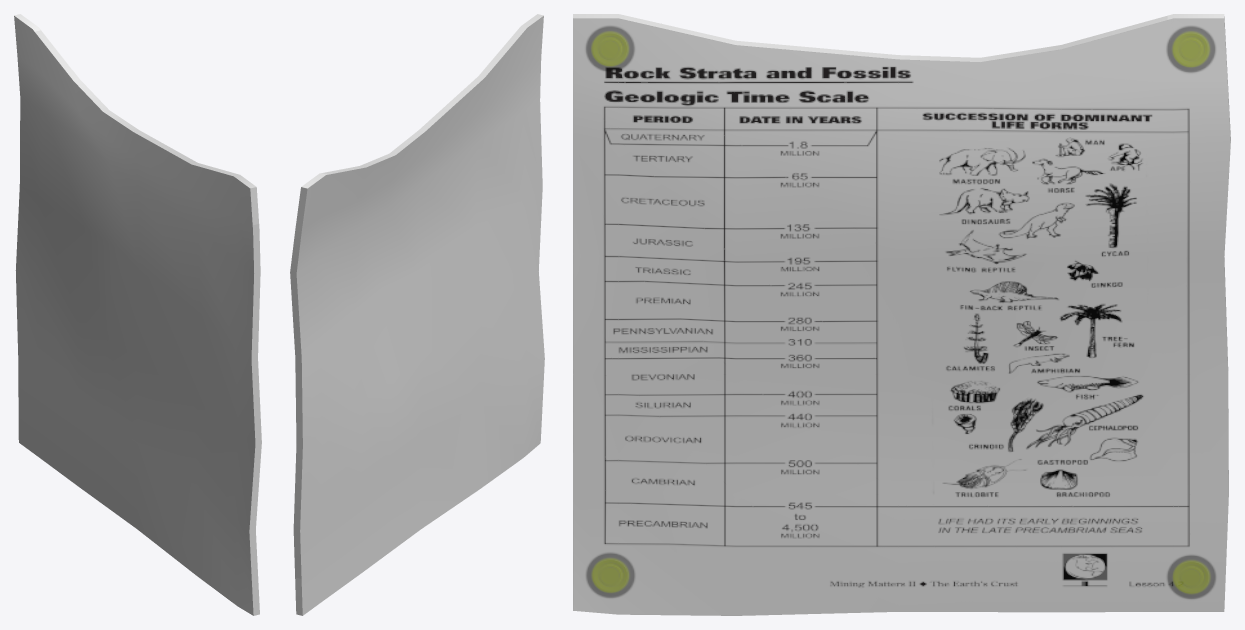
File: Poster_textured.fbx
The picture shows the model from 3 angles, left to right: view 1: azimuth 30°, elevation 25°; view 2: azimuth 150°, elevation 25°; view 3: azimuth 270°, elevation 25°; orthographic projection. The views are drawn at different scales.
Visible parts, largest first — view 1: Cube.001; view 2: Cube.001; view 3: Cube.001.
Boxes of the visible parts, <box> form: Cube.001: <box>14,14,261,615</box>; Cube.001: <box>290,14,544,615</box>; Cube.001: <box>573,14,1230,615</box>.
Bounding box in the file's own units: 19.36 × 382 × 384.
